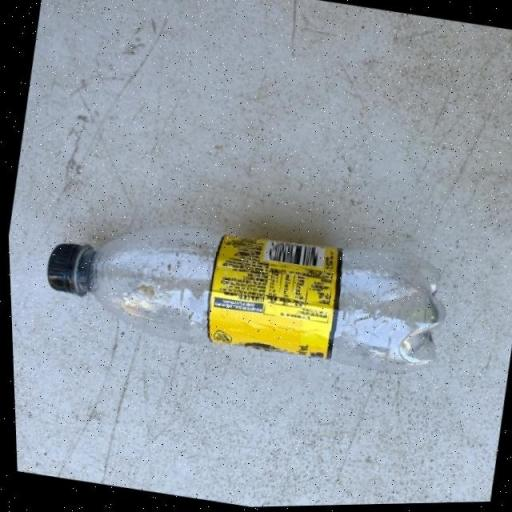plastic: (32, 191, 455, 389)
